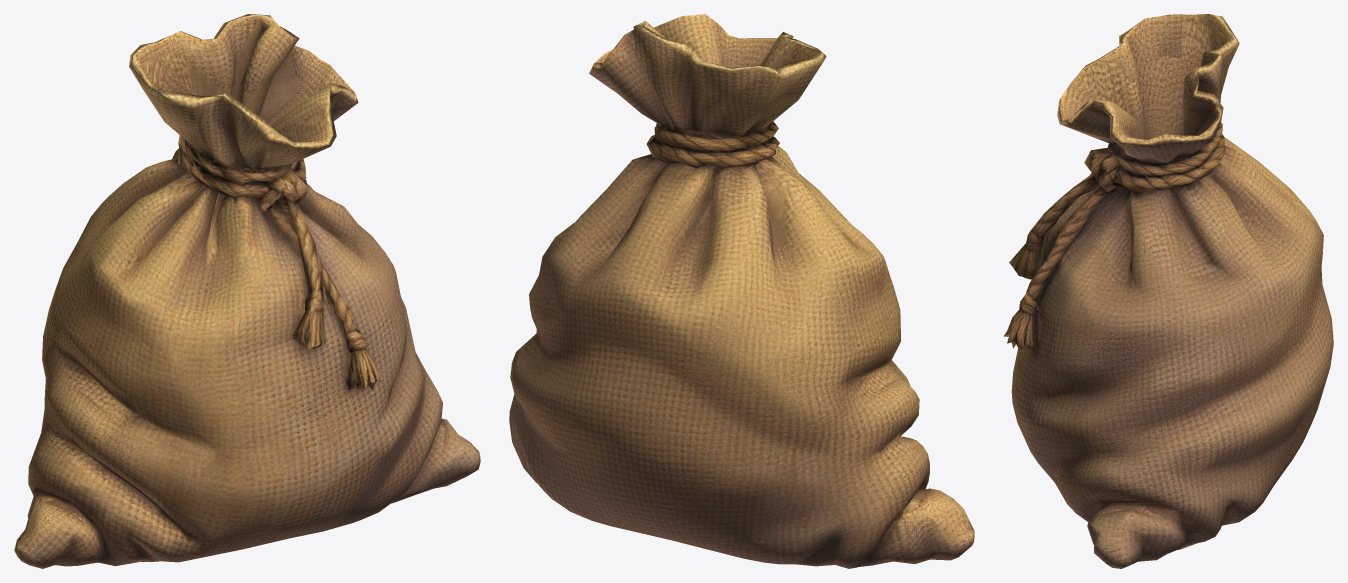
The model's file is sack.glb.
3 views of the same model, side by side, from view 1: azimuth 30°, elevation 25°; view 2: azimuth 150°, elevation 25°; view 3: azimuth 270°, elevation 25° (orthographic). The views are drawn at different scales.
Visible parts, largest first — view 1: tripo_node_02dfb352-48b8-42f4-9861-32eb43500cb7; view 2: tripo_node_02dfb352-48b8-42f4-9861-32eb43500cb7; view 3: tripo_node_02dfb352-48b8-42f4-9861-32eb43500cb7.
Part boxes in pixels (x1,y1,x2,y2): tripo_node_02dfb352-48b8-42f4-9861-32eb43500cb7: (14,14,480,568); tripo_node_02dfb352-48b8-42f4-9861-32eb43500cb7: (509,14,974,568); tripo_node_02dfb352-48b8-42f4-9861-32eb43500cb7: (1003,14,1333,568).
Size of the model in its own units: 0.9792 by 0.978 by 0.6666.
Materials: 1 (1 with a texture image).
